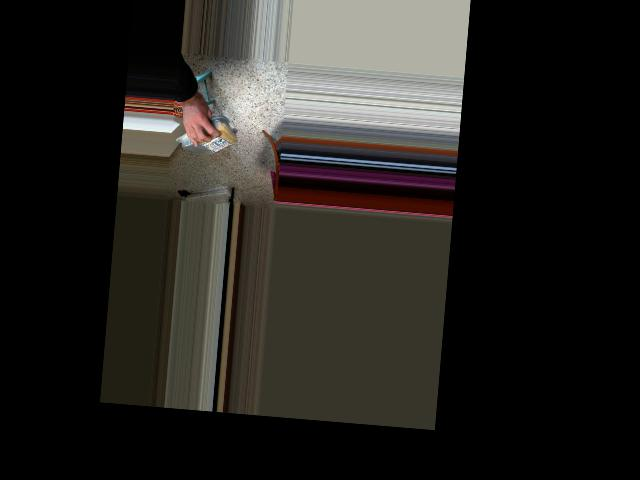cheese: (179, 121, 243, 154)
